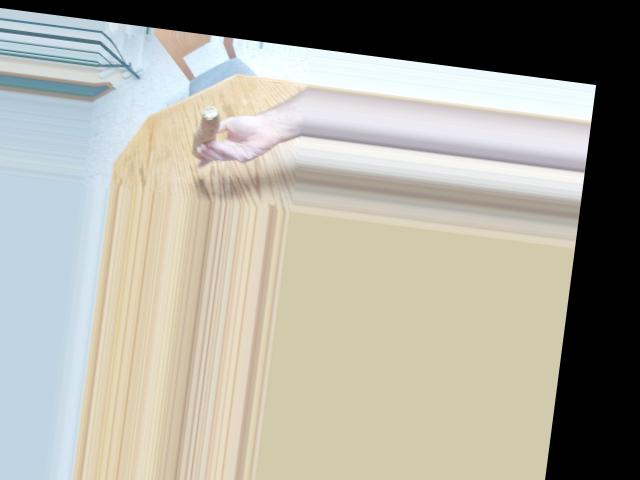sweet_potato: (189, 110, 213, 161)
